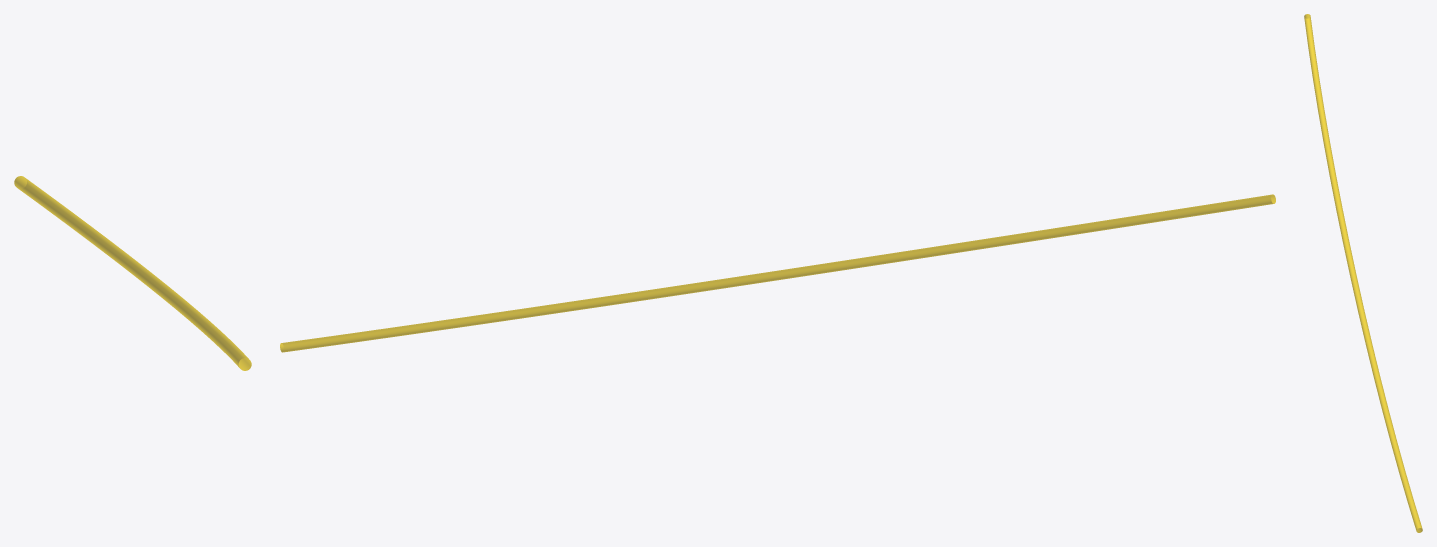
File: Event_100608114_track_137.fbx
The picture shows the model from 3 angles, left to right: view 1: azimuth 90°, elevation 25°; view 2: azimuth 150°, elevation 25°; view 3: azimuth 270°, elevation 25°; orthographic projection. The views are drawn at different scales.
Visible parts, largest first — view 1: Model; view 2: Model; view 3: Model.
Boxes of the visible parts, x1,y1,x2,y2 form: Model: (14, 176, 251, 370); Model: (280, 194, 1275, 352); Model: (1304, 14, 1422, 532).
Size of the model in its own units: 4.38 by 1.46 by 0.7244.
